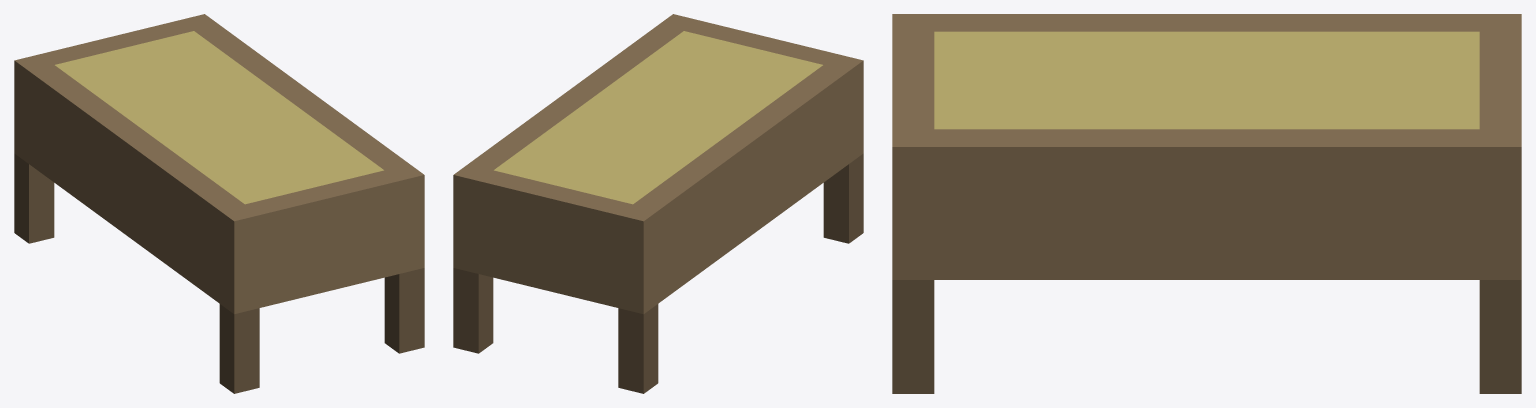
Rendered from pesebre_roble_01.glb.
The picture shows the model from 3 angles, left to right: view 1: azimuth 30°, elevation 25°; view 2: azimuth 150°, elevation 25°; view 3: azimuth 270°, elevation 25°; orthographic projection. The views are drawn at different scales.
Visible parts, largest first — view 1: pesebre_roble; view 2: pesebre_roble; view 3: pesebre_roble.
Part boxes in pixels (x1,y1,x2,y2): pesebre_roble: (14,14,424,393); pesebre_roble: (453,14,863,393); pesebre_roble: (892,14,1521,393).
Size of the model in its own units: 1 by 0.8667 by 2.
